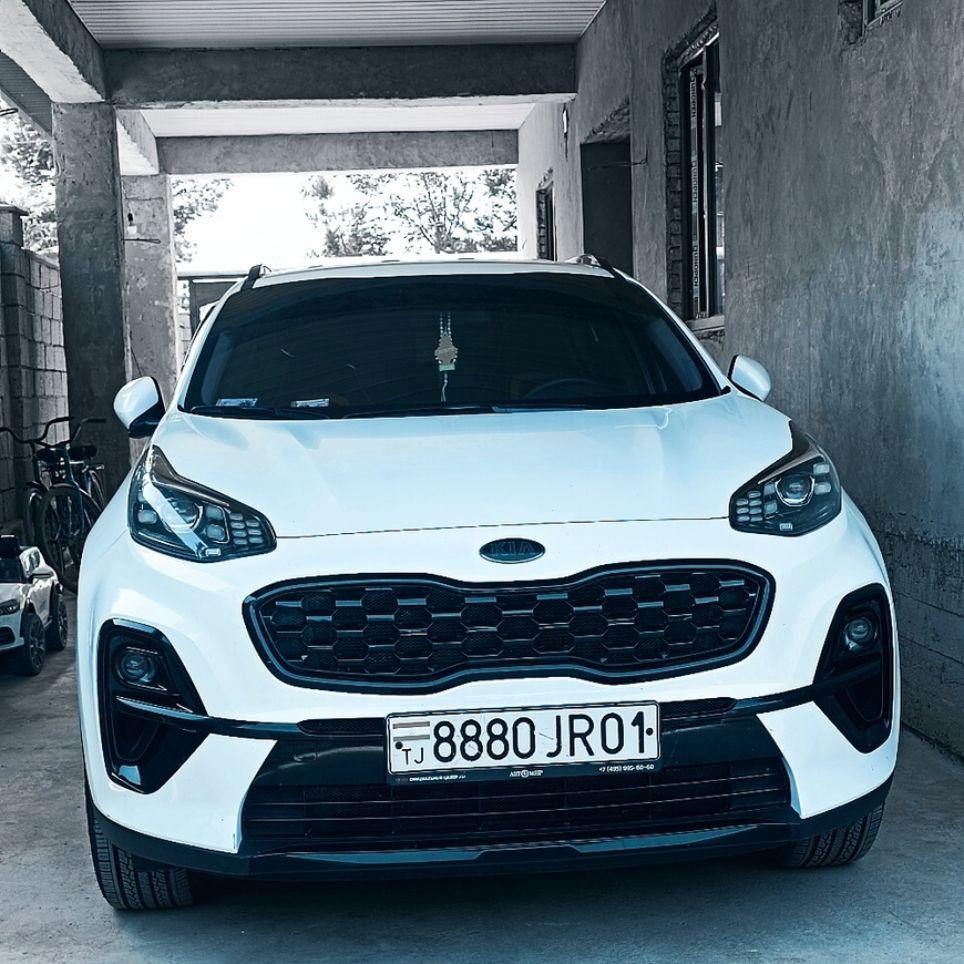license plate: (387, 699, 662, 781)
truck: (69, 262, 916, 930)
